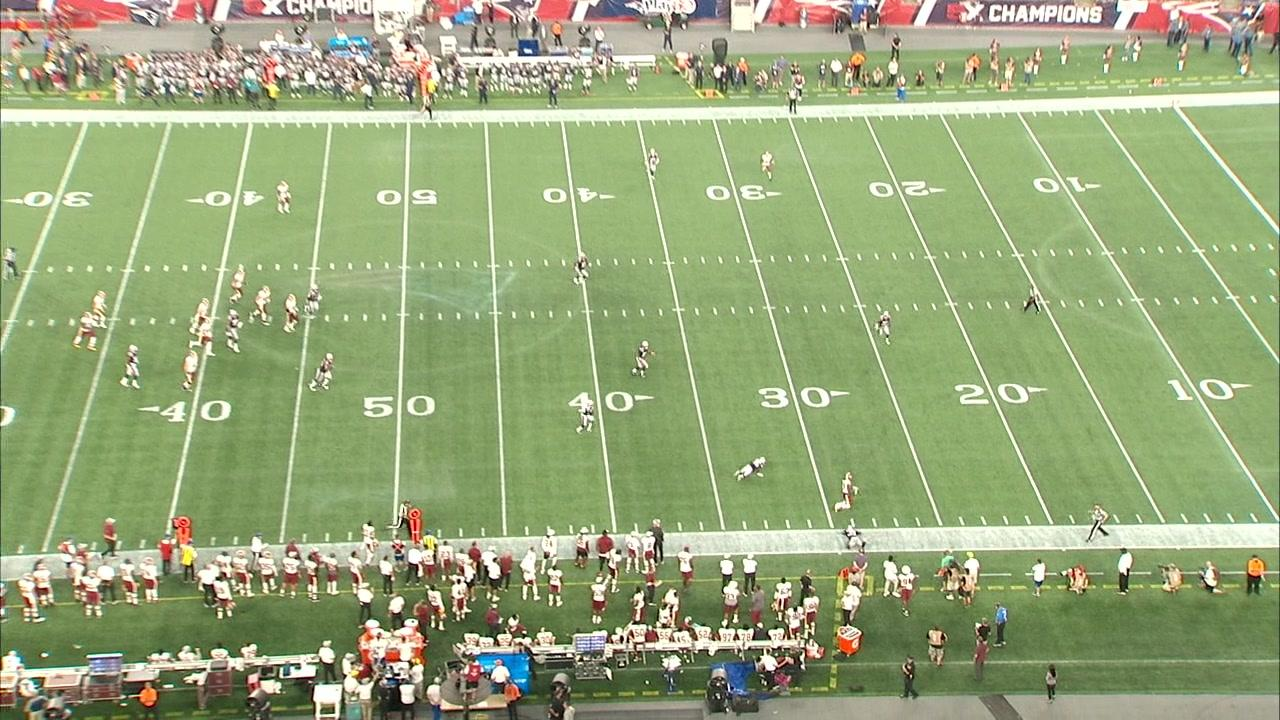five_hash: (214, 266, 231, 273), (118, 268, 137, 274), (104, 317, 122, 323), (1130, 296, 1145, 303), (943, 302, 960, 308), (206, 315, 222, 321), (852, 303, 868, 309), (488, 310, 503, 316), (671, 307, 686, 313), (835, 256, 850, 262), (1011, 253, 1026, 259), (1101, 250, 1116, 256), (662, 260, 676, 266), (762, 305, 776, 311), (397, 265, 413, 270), (395, 313, 411, 318), (1191, 248, 1207, 253), (1225, 296, 1241, 301), (580, 309, 595, 314), (923, 255, 938, 260), (486, 263, 500, 268), (307, 266, 321, 270), (748, 259, 762, 263)
hash: (1047, 248, 1059, 260), (84, 264, 96, 276), (167, 315, 179, 327), (127, 316, 138, 328), (907, 250, 918, 262), (65, 264, 76, 276), (728, 305, 739, 316), (1083, 247, 1094, 258), (1066, 247, 1077, 258), (103, 263, 114, 274), (45, 318, 56, 329), (802, 252, 812, 264), (528, 310, 538, 321), (379, 312, 389, 323), (43, 264, 54, 274), (1174, 245, 1185, 255), (960, 249, 970, 260), (941, 250, 951, 261), (872, 252, 882, 263), (820, 254, 830, 265), (733, 254, 743, 265), (364, 261, 374, 272), (291, 261, 301, 272), (180, 263, 190, 274), (66, 317, 76, 328), (890, 250, 899, 262), (346, 261, 355, 273), (1229, 243, 1239, 253), (1247, 242, 1257, 252), (1268, 294, 1278, 304), (1076, 298, 1086, 308), (1139, 246, 1149, 256), (1030, 248, 1040, 258), (471, 259, 481, 269), (148, 316, 158, 326), (25, 318, 35, 328), (1211, 243, 1220, 254), (985, 300, 994, 311), (874, 302, 883, 313), (819, 303, 828, 314), (417, 311, 426, 322), (995, 248, 1004, 259), (716, 255, 725, 266), (699, 255, 708, 266), (524, 258, 533, 269), (418, 259, 427, 270), (274, 262, 283, 273), (254, 262, 265, 271), (361, 312, 369, 324), (1249, 295, 1258, 305), (1191, 296, 1200, 306), (1115, 297, 1124, 307), (473, 311, 482, 321), (1156, 245, 1165, 255), (977, 250, 987, 259), (786, 254, 795, 264), (612, 257, 621, 267), (594, 258, 603, 268), (542, 258, 551, 268), (382, 261, 391, 271), (328, 262, 337, 272), (161, 263, 170, 273), (143, 263, 152, 273), (1004, 300, 1012, 311), (783, 304, 791, 315), (565, 308, 573, 319), (436, 311, 444, 322), (454, 259, 462, 270), (1267, 243, 1276, 252), (1153, 297, 1162, 306), (1096, 299, 1105, 308), (911, 303, 920, 312), (746, 306, 755, 315), (200, 263, 209, 272), (967, 301, 975, 311), (930, 302, 938, 312), (838, 304, 846, 314), (711, 306, 719, 316), (693, 307, 701, 317), (323, 314, 331, 324), (855, 252, 863, 262), (681, 256, 689, 266), (647, 256, 655, 266), (629, 257, 637, 267), (560, 258, 568, 268), (437, 260, 445, 270), (1211, 296, 1219, 305), (1059, 299, 1067, 308), (802, 305, 810, 314), (657, 308, 665, 317), (638, 308, 646, 317), (601, 309, 609, 318), (547, 310, 555, 319), (1120, 247, 1129, 255), (1173, 296, 1180, 306), (893, 302, 900, 312), (621, 308, 628, 318), (769, 254, 776, 264), (507, 258, 514, 268), (510, 310, 517, 319), (455, 312, 462, 321), (343, 314, 349, 322)
number: (1164, 372, 1238, 407), (754, 382, 837, 413), (360, 392, 440, 420), (954, 381, 1032, 409), (159, 398, 235, 426), (569, 389, 642, 416), (21, 189, 97, 211), (868, 176, 930, 200), (1030, 171, 1089, 196), (202, 187, 268, 209), (540, 184, 600, 207), (705, 182, 767, 204), (372, 187, 442, 206)
